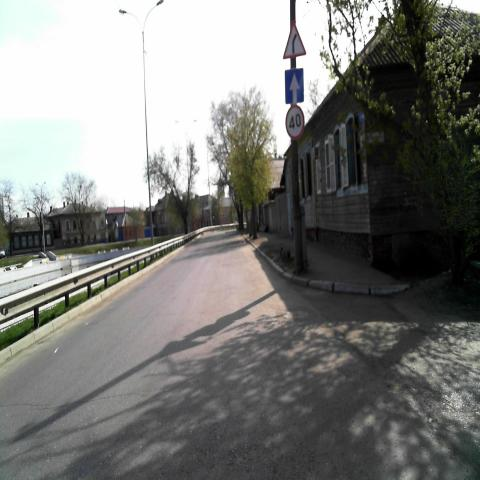1_11: (282, 21, 306, 59)
5_5: (285, 68, 304, 104)
